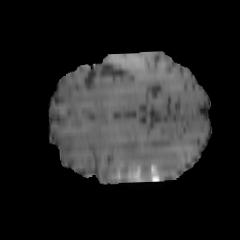glioma: (64, 129, 183, 186)
